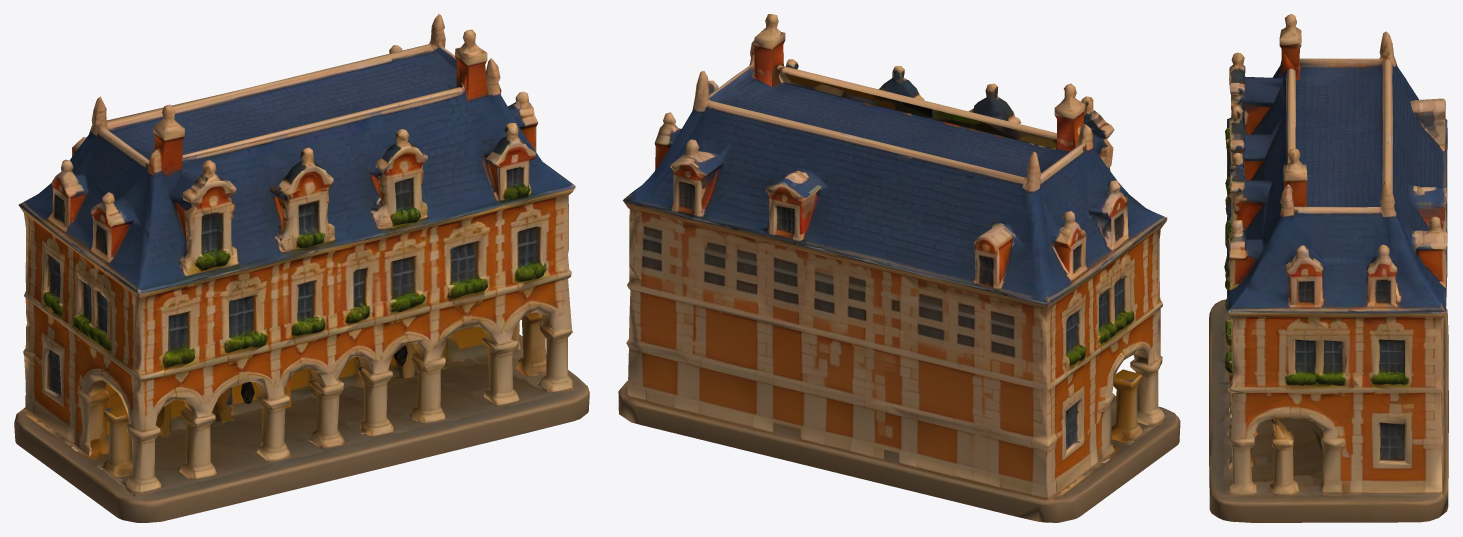
Rendered from lille-bourse.glb.
3 views of the same model, side by side, from view 1: azimuth 30°, elevation 25°; view 2: azimuth 150°, elevation 25°; view 3: azimuth 270°, elevation 25° (orthographic). The views are drawn at different scales.
Parts seen in each view (by area): view 1: textured_mesh.obj; view 2: textured_mesh.obj; view 3: textured_mesh.obj.
Boxes of the visible parts, x1,y1,x2,y2 form: textured_mesh.obj: [14, 14, 589, 522]; textured_mesh.obj: [618, 14, 1180, 522]; textured_mesh.obj: [1209, 14, 1448, 522].
Size of the model in its own units: 1.32 by 1 by 0.6459.
1 material, 1 textured.
